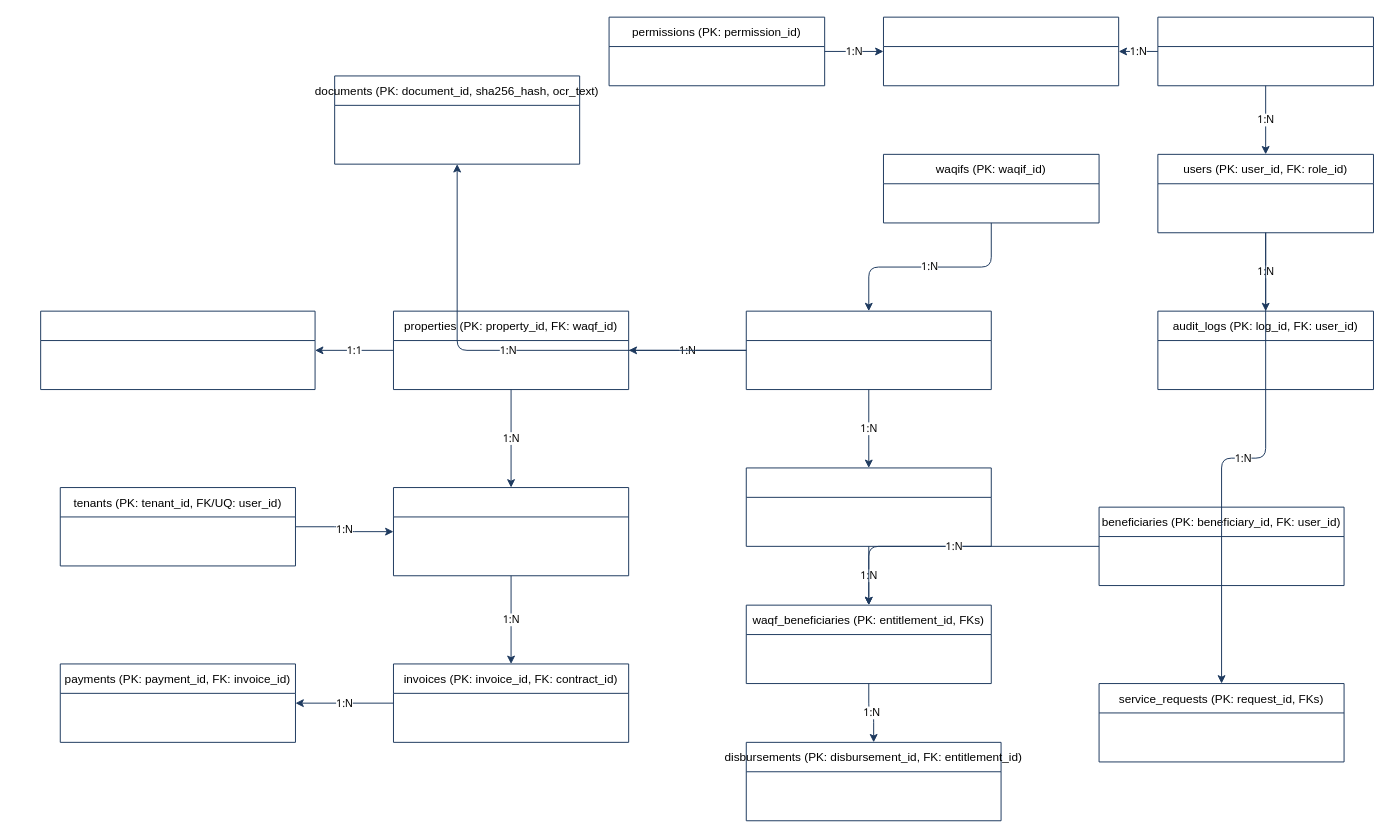
Some shapes in this 1391 by 838 pixel diagram are drawn without their labels. The box of each missing label's shape, as (x1, y1, x2, y2) in pixels:
gis_parcels (PK: parcel_id, FK/UQ: property_id, GEOMETRY): (40, 310, 315, 390)
lease_contracts (PK: contract_id, FKs): (392, 487, 629, 576)
role_permissions (PK,FK: role_id, permission_id): (882, 16, 1119, 86)
roles (PK: role_id): (1157, 16, 1373, 86)
waqfs (PK: waqf_id, FK: waqif_id, nazir_user_id): (745, 310, 991, 390)
waqif_conditions (PK: condition_id, FK: waqf_id): (745, 467, 991, 546)
